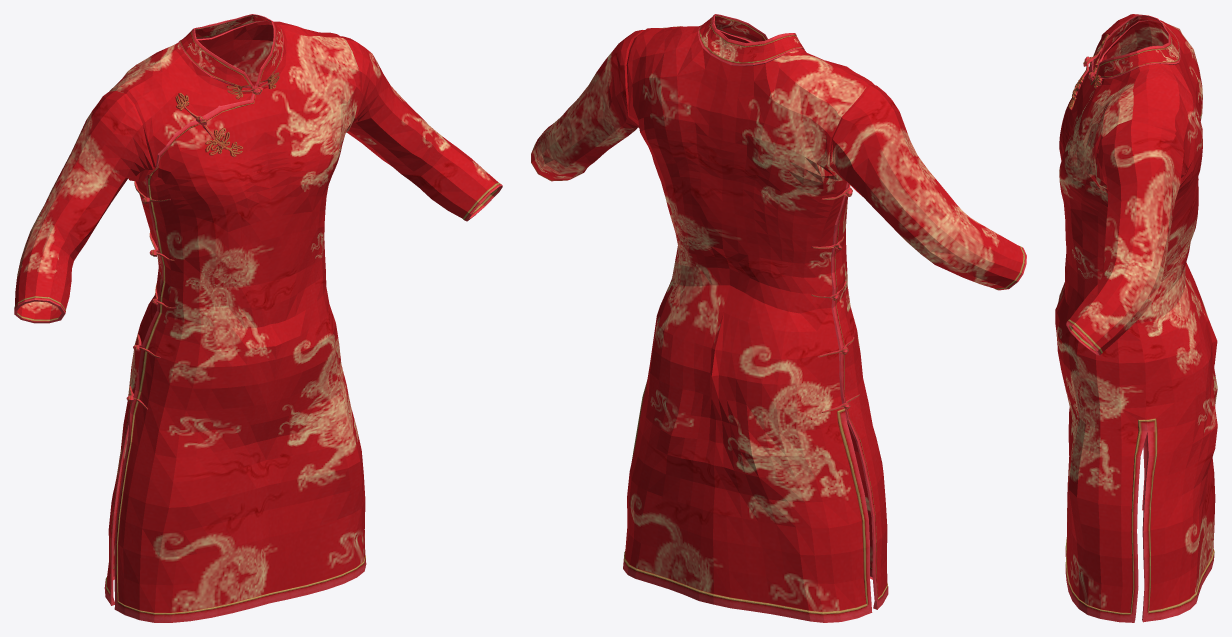
File: mhw_punkduck_middle_length_qipao.glb
3 renders of one model, left to right at view 1: azimuth 30°, elevation 25°; view 2: azimuth 150°, elevation 25°; view 3: azimuth 270°, elevation 25°, orthographic. The views are drawn at different scales.
Visible parts, largest first — view 1: mhw_punkduck_middle_length_qipao; view 2: mhw_punkduck_middle_length_qipao; view 3: mhw_punkduck_middle_length_qipao.
Boxes of the visible parts, x1,y1,x2,y2 form: mhw_punkduck_middle_length_qipao: (14, 14, 502, 622); mhw_punkduck_middle_length_qipao: (531, 14, 1026, 622); mhw_punkduck_middle_length_qipao: (1055, 14, 1217, 622).
Size of the model in its own units: 0.9708 by 1.05 by 0.2906.
1 material, 1 textured.
